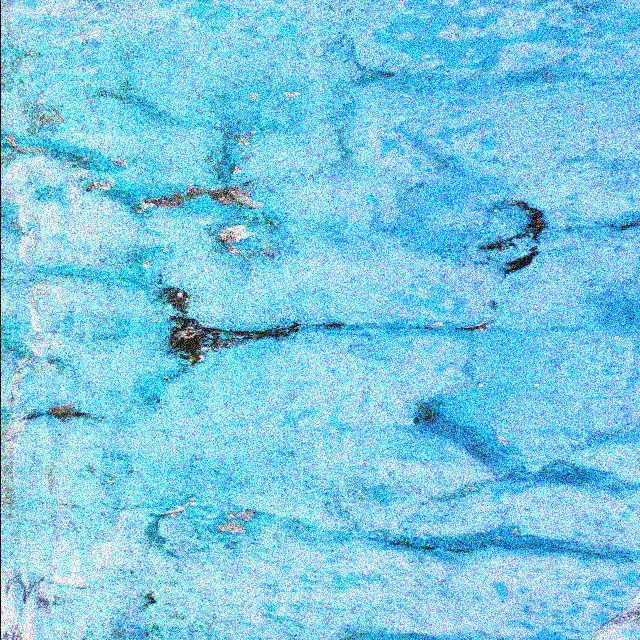SurfaceCrack: (1, 154, 638, 415)
